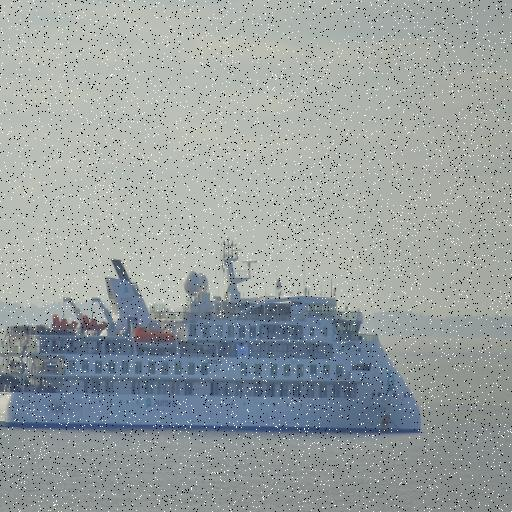cruises: (1, 234, 430, 437)
